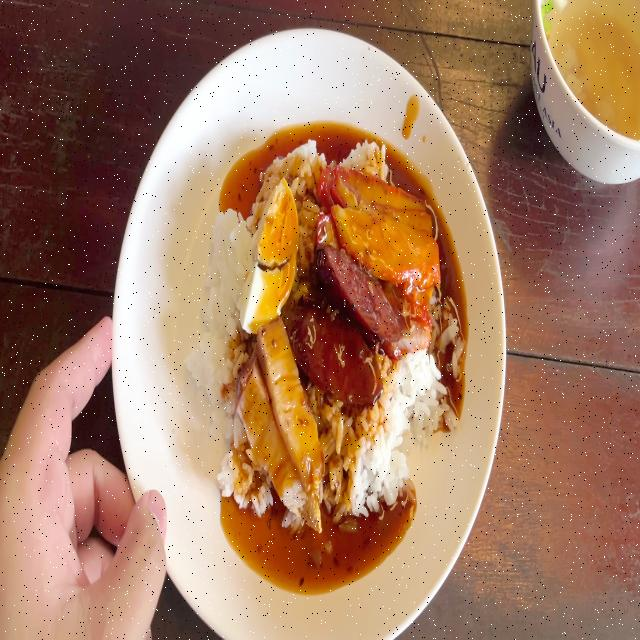boiled_egg: (241, 174, 294, 336)
chainese_sausage: (300, 251, 393, 396)
crispy_pork: (246, 326, 317, 504)
red_pork: (327, 167, 439, 280)
red_pork_and_crispy_pork: (197, 132, 443, 512)
rice: (193, 214, 250, 394), (331, 426, 411, 509), (379, 361, 450, 438)
